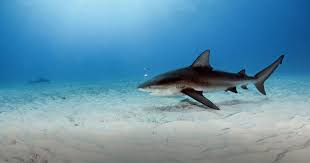shark: (134, 48, 298, 112)
